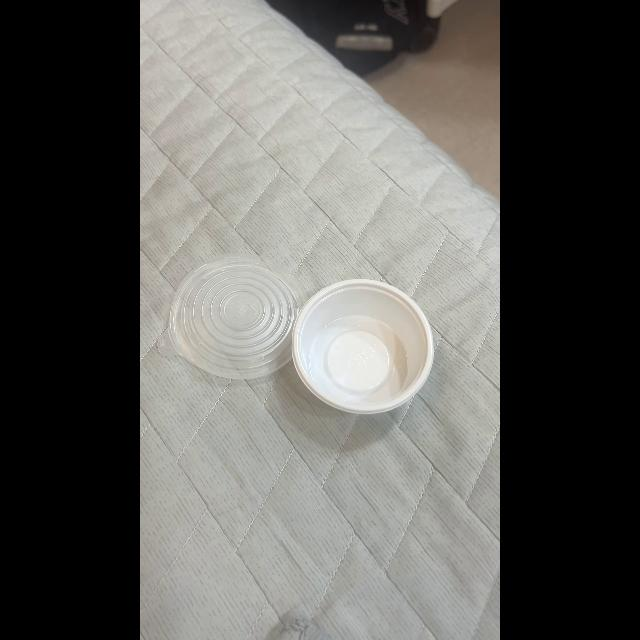clean: (306, 280, 429, 416), (175, 265, 299, 383)
